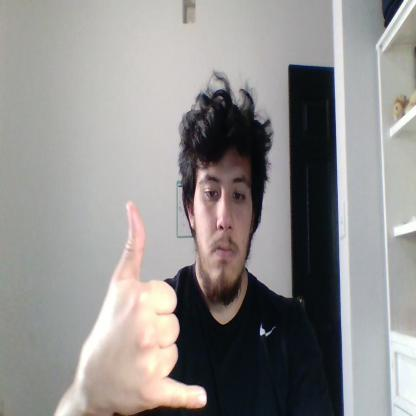Y: (91, 199, 207, 415)
